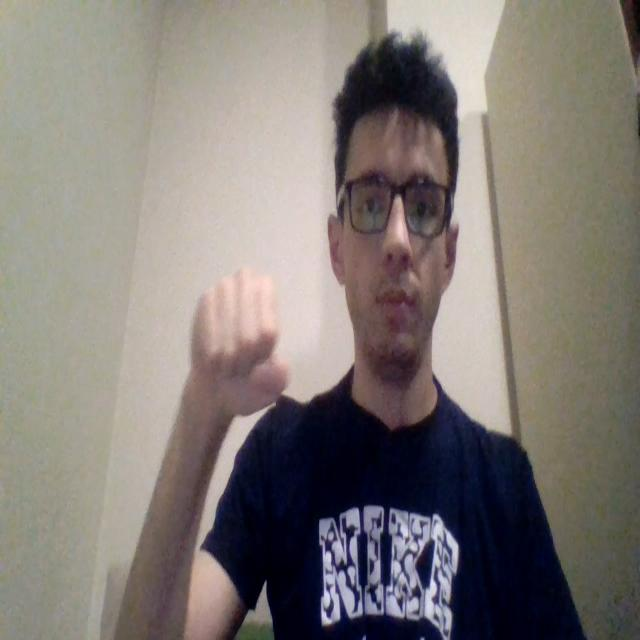yes: (188, 264, 290, 420)
